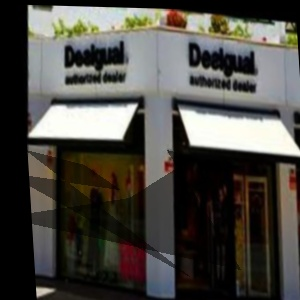desigual: (133, 23, 299, 57), (110, 20, 147, 48)
